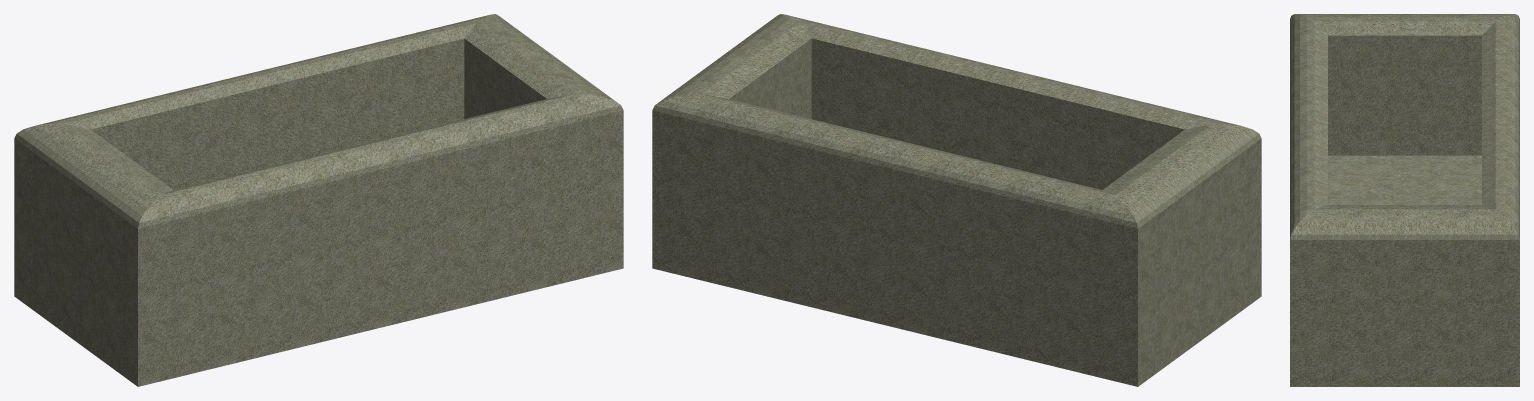
Rendered from blendergltfWaterChannel.gltf.
3 renders of one model, left to right at view 1: azimuth 30°, elevation 25°; view 2: azimuth 150°, elevation 25°; view 3: azimuth 270°, elevation 25°, orthographic. The views are drawn at different scales.
Visible parts, largest first — view 1: Cube.002; view 2: Cube.002; view 3: Cube.002.
Boxes of the visible parts, x1=… form: Cube.002: x1=14, y1=14, x2=623, y2=386; Cube.002: x1=652, y1=14, x2=1261, y2=386; Cube.002: x1=1290, y1=14, x2=1519, y2=386.
Size of the model in its own units: 2.3 by 0.7842 by 1.01.
Materials: 1 (1 with a texture image).
